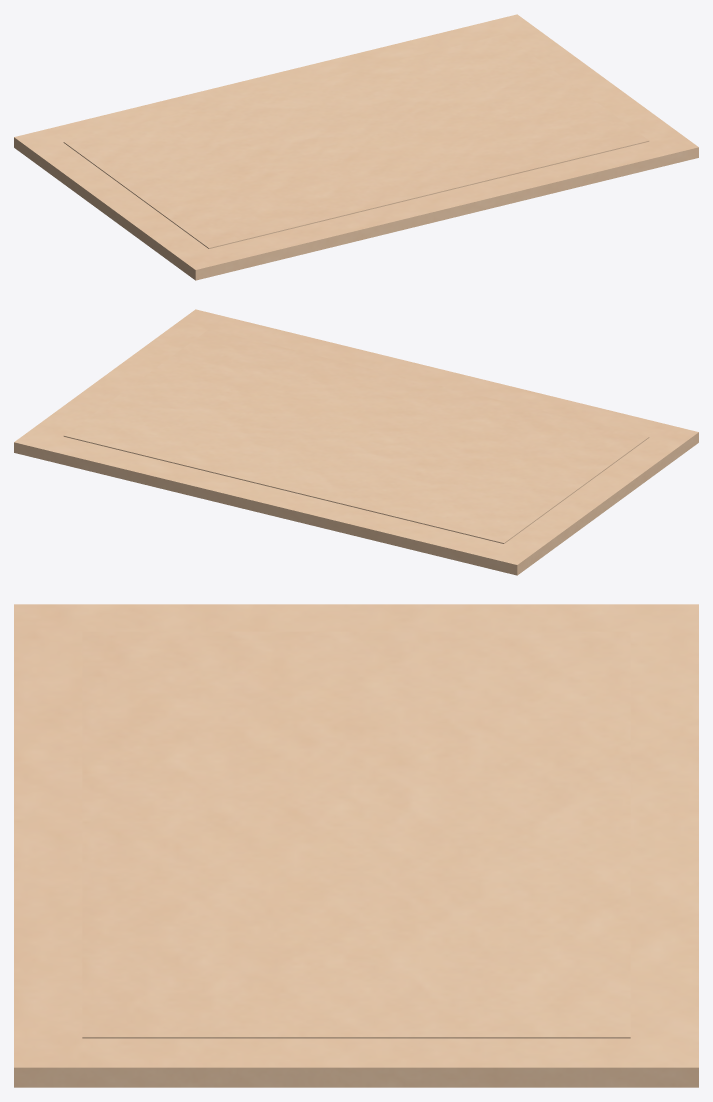
Rendered from Doormat.fbx.
3 renders of one model, top to bottom at view 1: azimuth 30°, elevation 25°; view 2: azimuth 150°, elevation 25°; view 3: azimuth 270°, elevation 25°, orthographic. The views are drawn at different scales.
Parts seen in each view (by area): view 1: Doormat; view 2: Doormat; view 3: Doormat.
Part boxes in pixels (x1=…): Doormat: x1=14, y1=14, x2=698, y2=280; Doormat: x1=14, y1=309, x2=698, y2=575; Doormat: x1=14, y1=604, x2=698, y2=1087.
Bounding box in the file's own units: 0.8 × 0.0175 × 0.5.
Materials: 1 (1 with a texture image).
